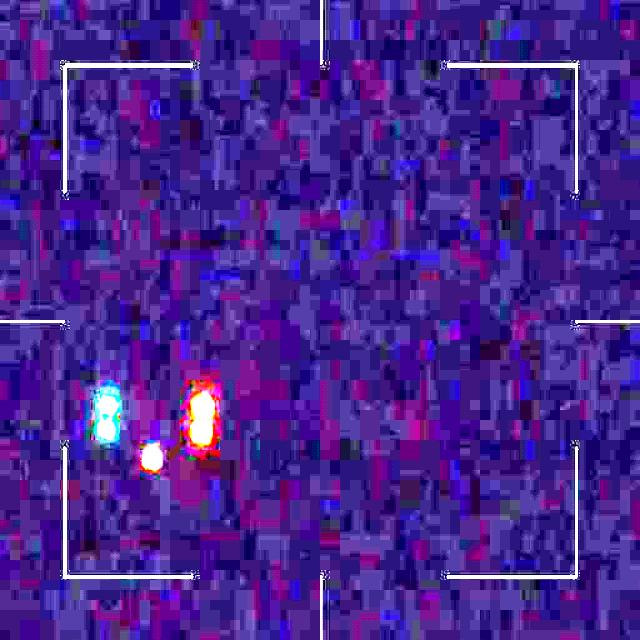bird: (94, 384, 215, 475)
